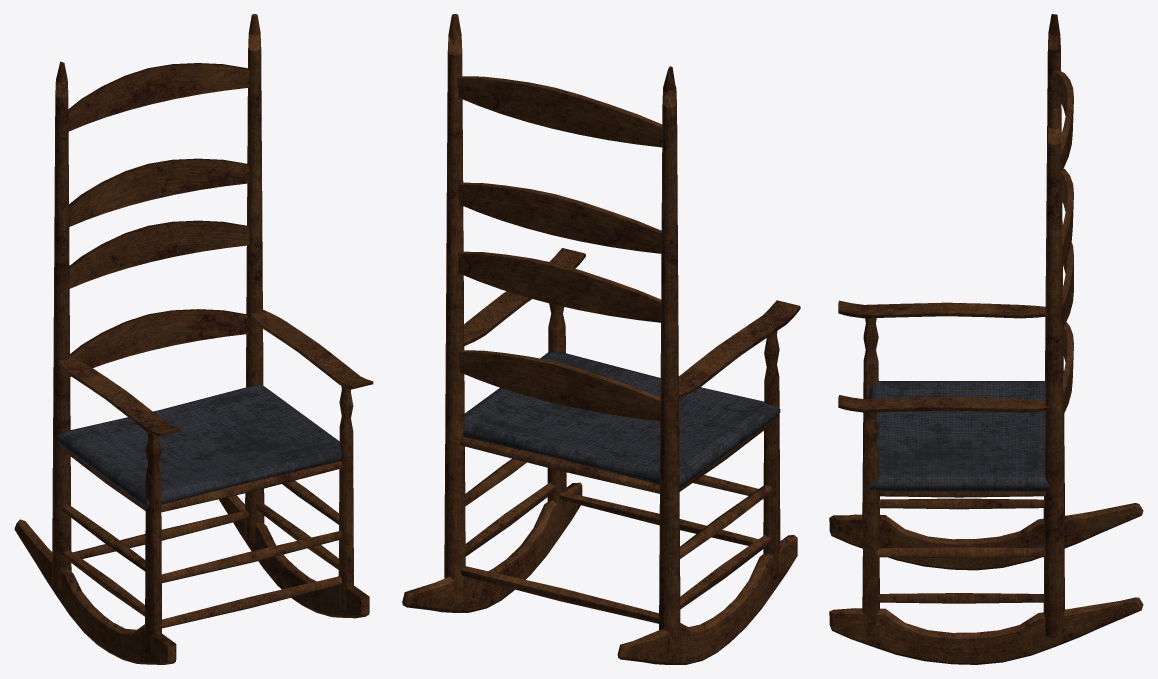
Rendered from Rocking chairrrrrr.fbx.
3 views of the same model, side by side, from view 1: azimuth 30°, elevation 25°; view 2: azimuth 150°, elevation 25°; view 3: azimuth 270°, elevation 25° (orthographic). The views are drawn at different scales.
Parts seen in each view (by area): view 1: Chair_Animation:Rocking_chair_LOD0; view 2: Chair_Animation:Rocking_chair_LOD0; view 3: Chair_Animation:Rocking_chair_LOD0.
Boxes of the visible parts, bbox=[...] form: Chair_Animation:Rocking_chair_LOD0: bbox=[14, 14, 373, 664]; Chair_Animation:Rocking_chair_LOD0: bbox=[402, 14, 800, 664]; Chair_Animation:Rocking_chair_LOD0: bbox=[829, 14, 1143, 664].
Bounding box in the file's own units: 17.1 × 42.29 × 21.68.
1 material, 1 textured.
